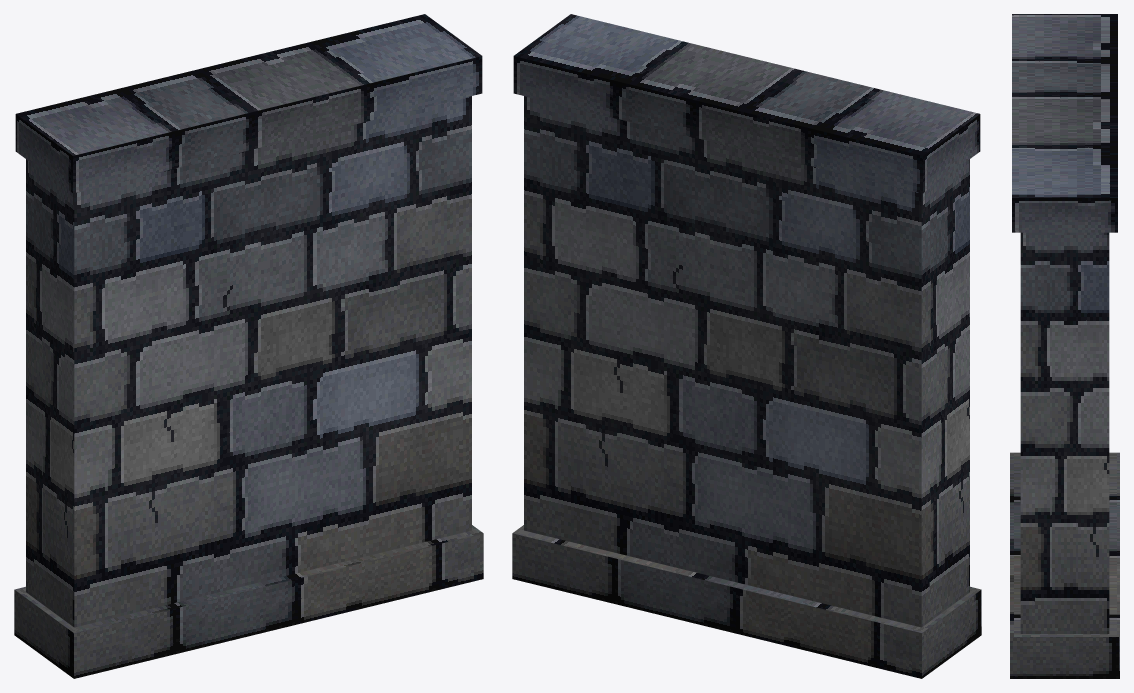
Rendered from prisao_parede.glb.
3 renders of one model, left to right at view 1: azimuth 30°, elevation 25°; view 2: azimuth 150°, elevation 25°; view 3: azimuth 270°, elevation 25°, orthographic. The views are drawn at different scales.
Parts seen in each view (by area): view 1: prisao_parede; view 2: prisao_parede; view 3: prisao_parede.
Part boxes in pixels (left/top/right/bottom): prisao_parede: left=14, top=14, right=483, bottom=678; prisao_parede: left=512, top=14, right=981, bottom=678; prisao_parede: left=1010, top=14, right=1119, bottom=678.
Size of the model in its own units: 2.06 by 2.51 by 0.52.
1 material, 1 textured.
